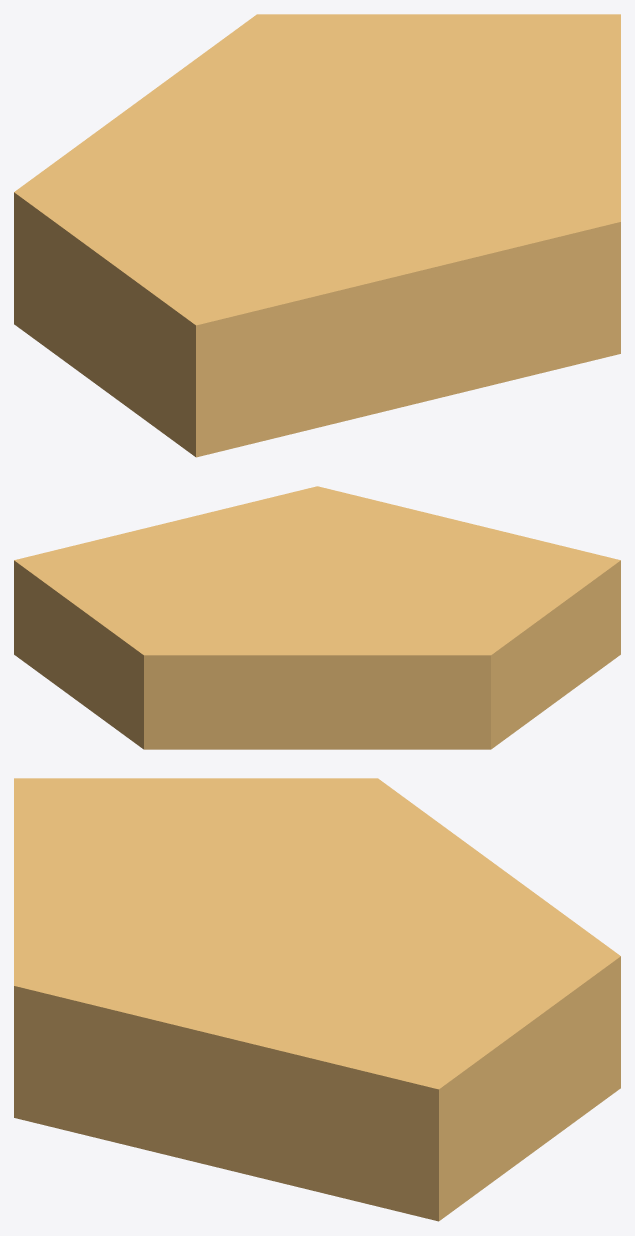
Rendered from _12wall1.glb.
The picture shows the model from 3 angles, top to bottom: view 1: azimuth 30°, elevation 25°; view 2: azimuth 150°, elevation 25°; view 3: azimuth 270°, elevation 25°; orthographic projection. The views are drawn at different scales.
Parts seen in each view (by area): view 1: VaromaCliff4; view 2: VaromaCliff4; view 3: VaromaCliff4.
Boxes of the visible parts, left/top/right/bottom form: VaromaCliff4: left=14, top=14, right=620, bottom=457; VaromaCliff4: left=14, top=486, right=620, bottom=749; VaromaCliff4: left=14, top=778, right=620, bottom=1221.
Size of the model in its own units: 1.52 by 0.3 by 1.25.
1 material, 1 textured.
